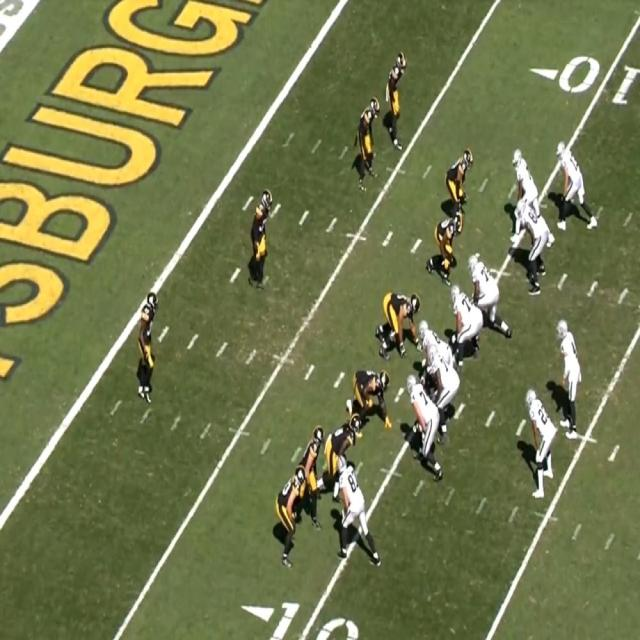center: (416, 318, 454, 362)
db: (383, 52, 414, 144), (358, 96, 378, 195), (252, 188, 272, 286), (140, 290, 158, 398)
lb: (274, 466, 304, 564), (302, 426, 321, 522)
qb: (554, 322, 583, 437)
